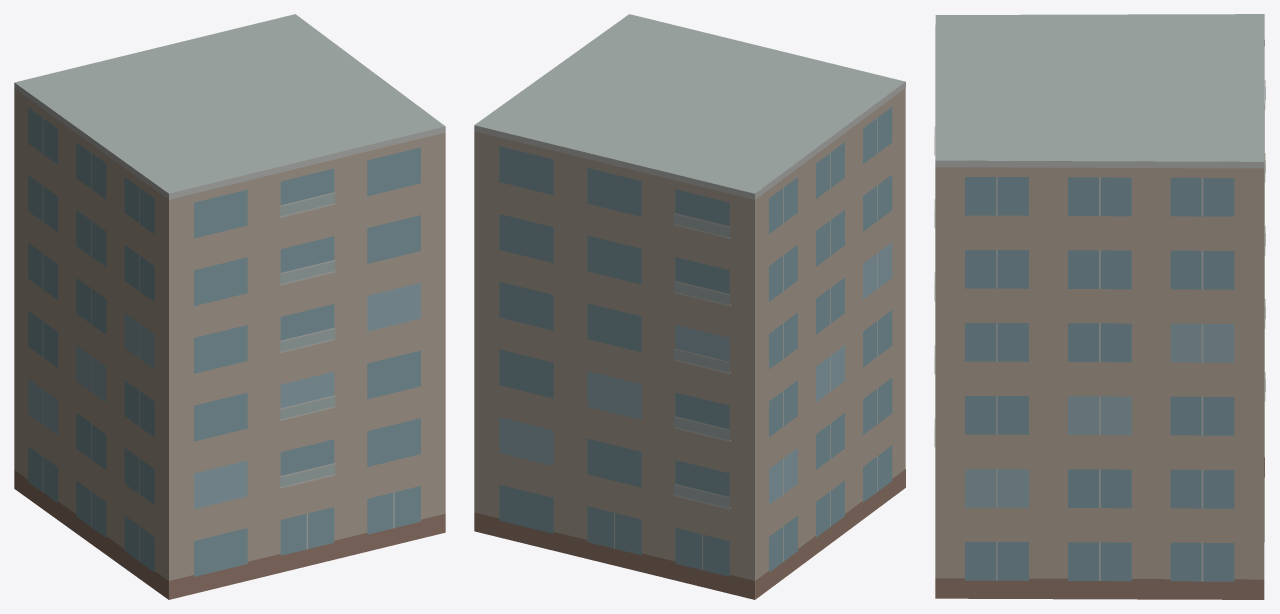
File: survey-upis-32892443.glb
3 views of the same model, side by side, from view 1: azimuth 30°, elevation 25°; view 2: azimuth 150°, elevation 25°; view 3: azimuth 270°, elevation 25° (orthographic). The views are drawn at different scales.
Visible parts, largest first — view 1: survey-upis-32892443.tmp; view 2: survey-upis-32892443.tmp; view 3: survey-upis-32892443.tmp.
Boxes of the visible parts, box(x1,y1,x2,y2) form: survey-upis-32892443.tmp: box(14, 14, 445, 599); survey-upis-32892443.tmp: box(474, 14, 905, 599); survey-upis-32892443.tmp: box(934, 14, 1265, 599).
Bounding box in the file's own units: 11.74 × 16.2 × 11.12.
